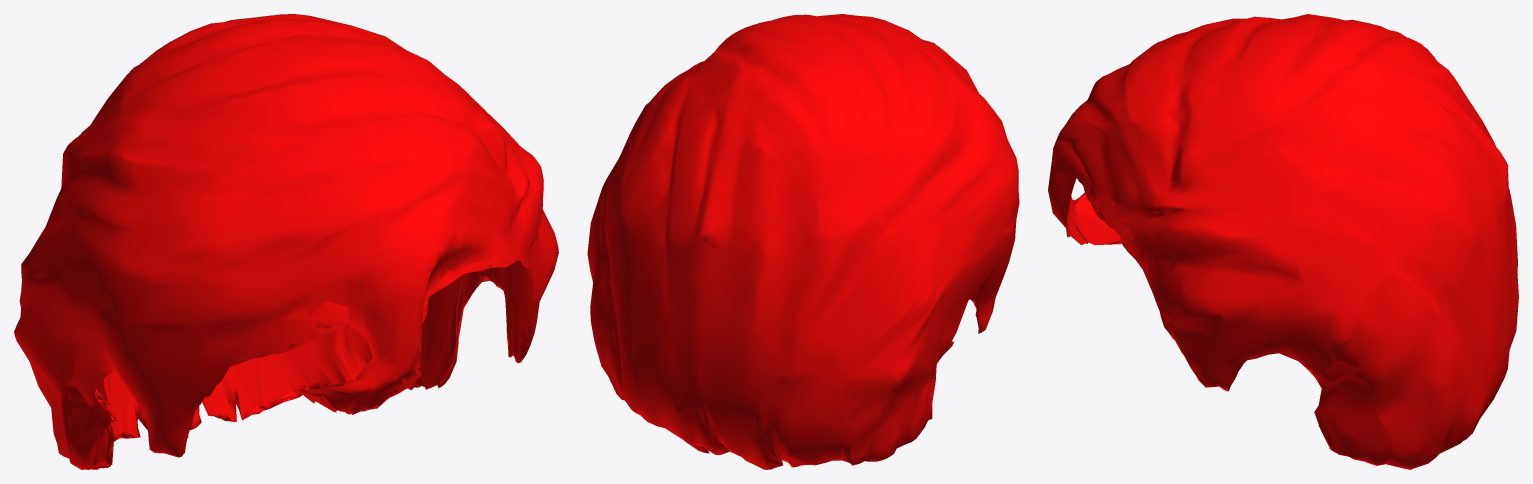
File: culturalibre_hair_14_F.glb
The picture shows the model from 3 angles, left to right: view 1: azimuth 30°, elevation 25°; view 2: azimuth 150°, elevation 25°; view 3: azimuth 270°, elevation 25°; orthographic projection. The views are drawn at different scales.
Bounding box in the file's own units: 0.1927 × 0.1878 × 0.2042.
1 material, 1 textured.
